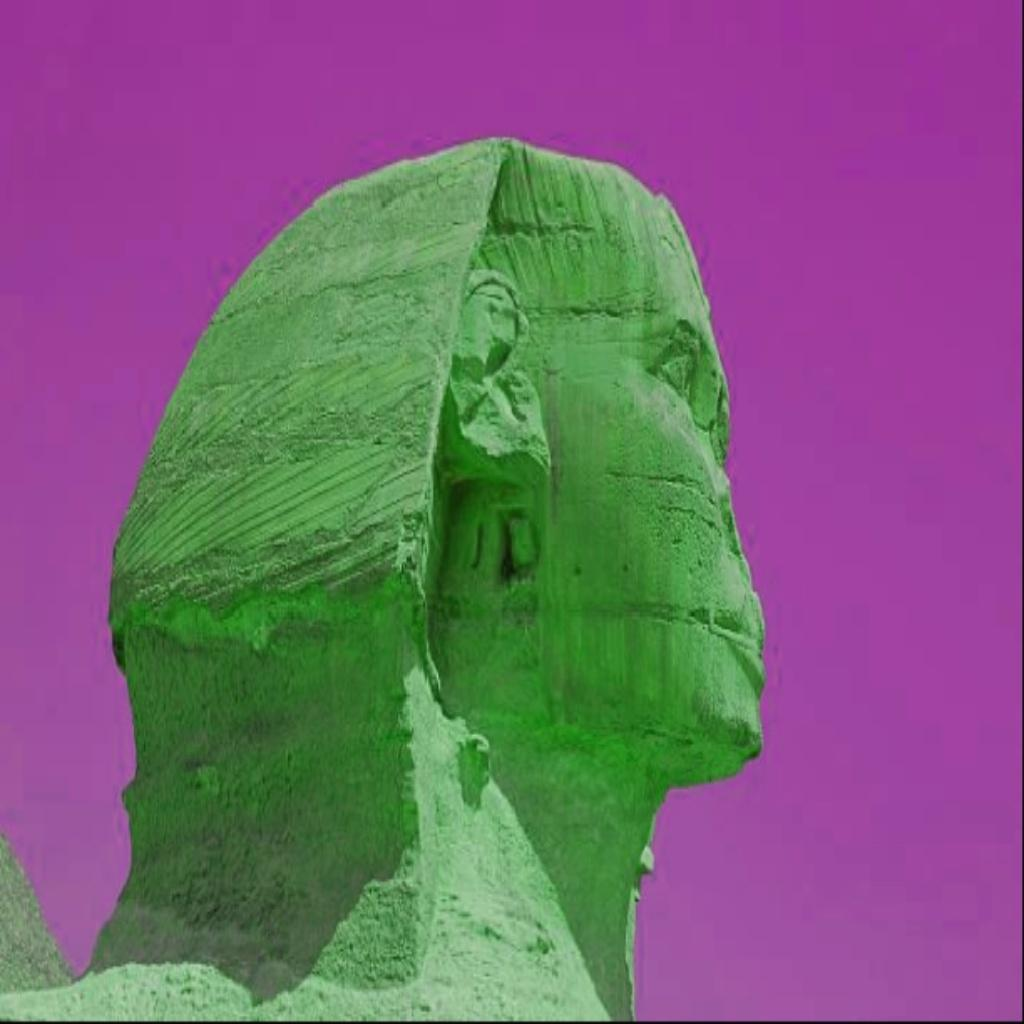Sphinx: (78, 132, 766, 1016)
